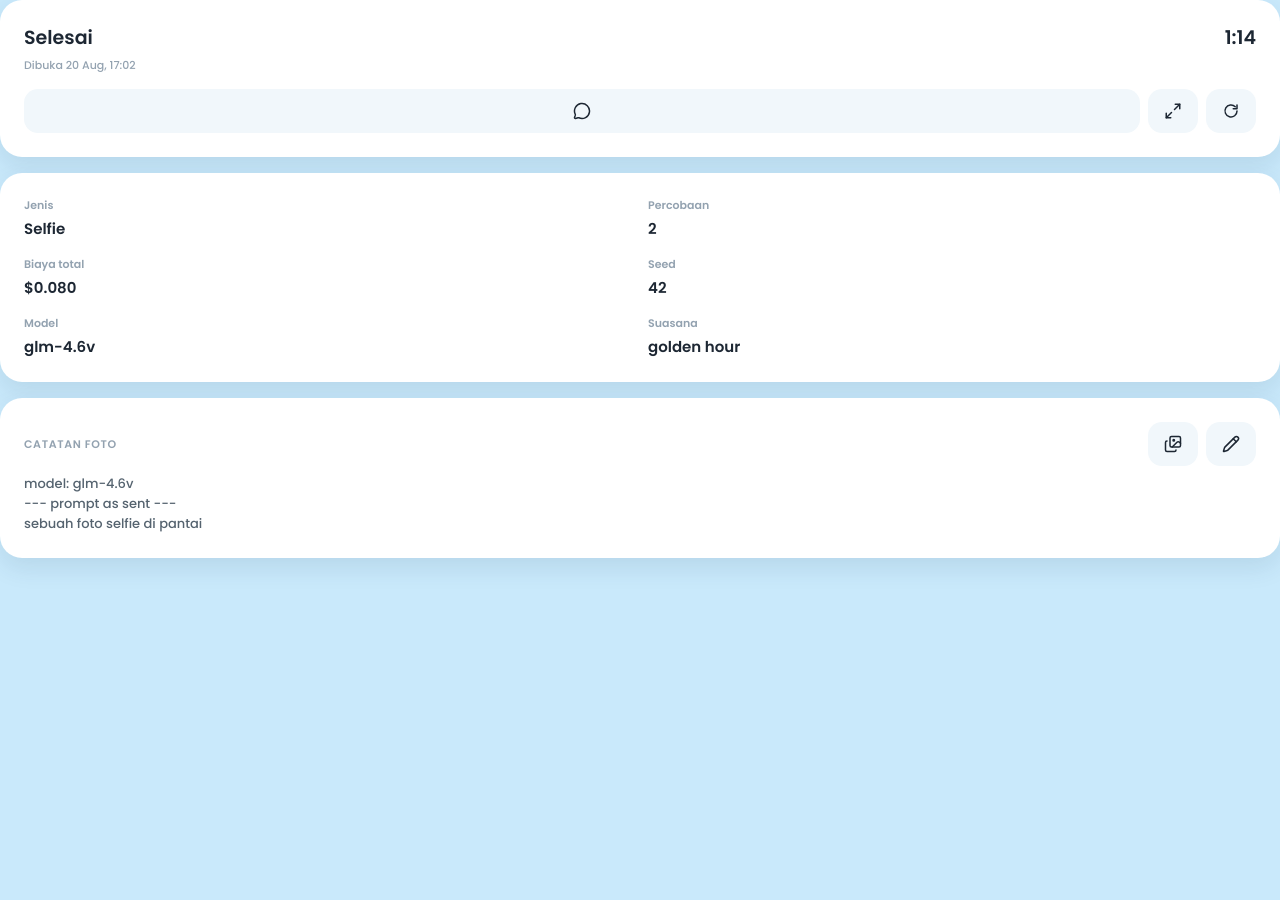
Test case: NinaJobDetail › the pencil opens an editable textarea prefilled with the bare prompt, never the sidecar
Click the button named "Ubah prompt": click(1231, 444) [1206, 422, 1256, 466]
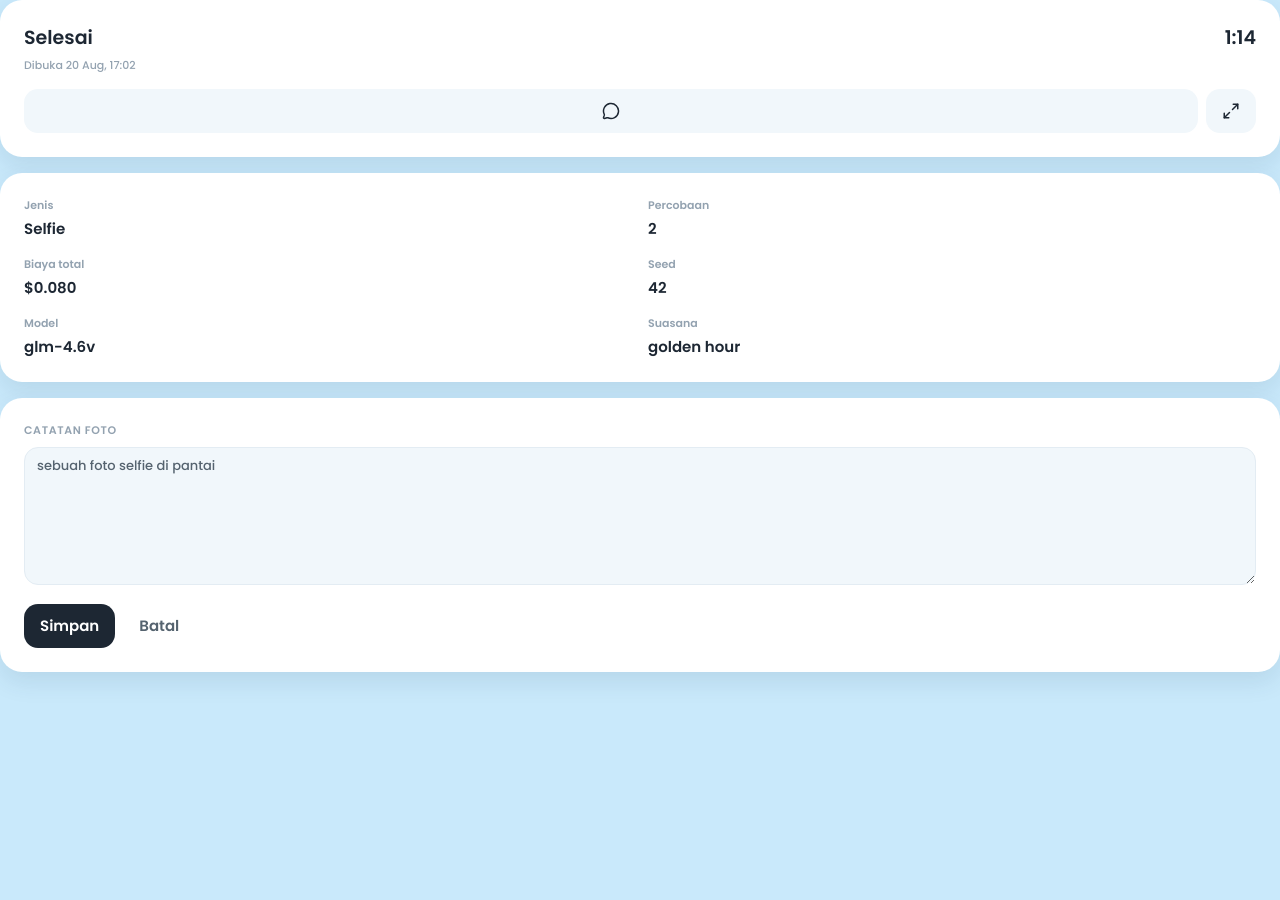
Check: the text box named "Prompt" holds "sebuah foto selfie di pantai", box [24, 446, 1256, 585]
